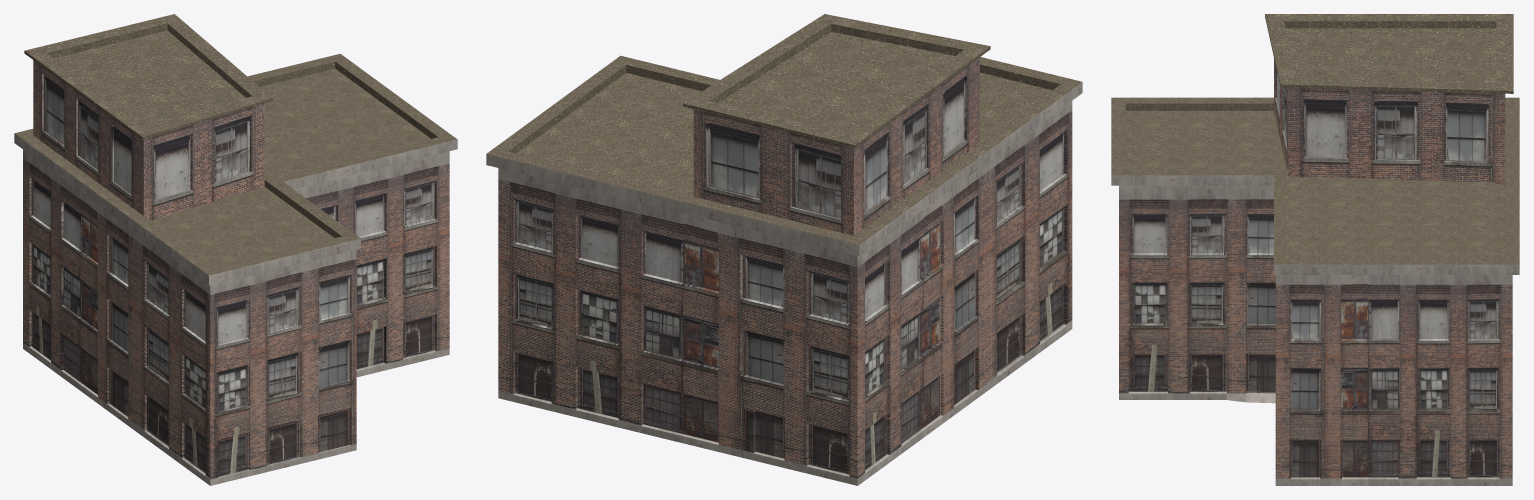
The model's file is factory.glb.
3 renders of one model, left to right at view 1: azimuth 30°, elevation 25°; view 2: azimuth 150°, elevation 25°; view 3: azimuth 270°, elevation 25°, orthographic. The views are drawn at different scales.
Visible parts, largest first — view 1: Cube_0, Cube.001_3; view 2: Cube_0, Cube.001_3; view 3: Cube_0, Cube.001_3.
Part boxes in pixels (x1,y1,x2,y2): Cube_0: [14, 53, 457, 485]; Cube.001_3: [24, 14, 272, 220]; Cube_0: [486, 55, 1082, 485]; Cube.001_3: [683, 14, 990, 235]; Cube_0: [1111, 97, 1519, 485]; Cube.001_3: [1265, 14, 1513, 182].
Size of the model in its own units: 3.34 by 2.91 by 3.45.
2 materials, 2 textured.
